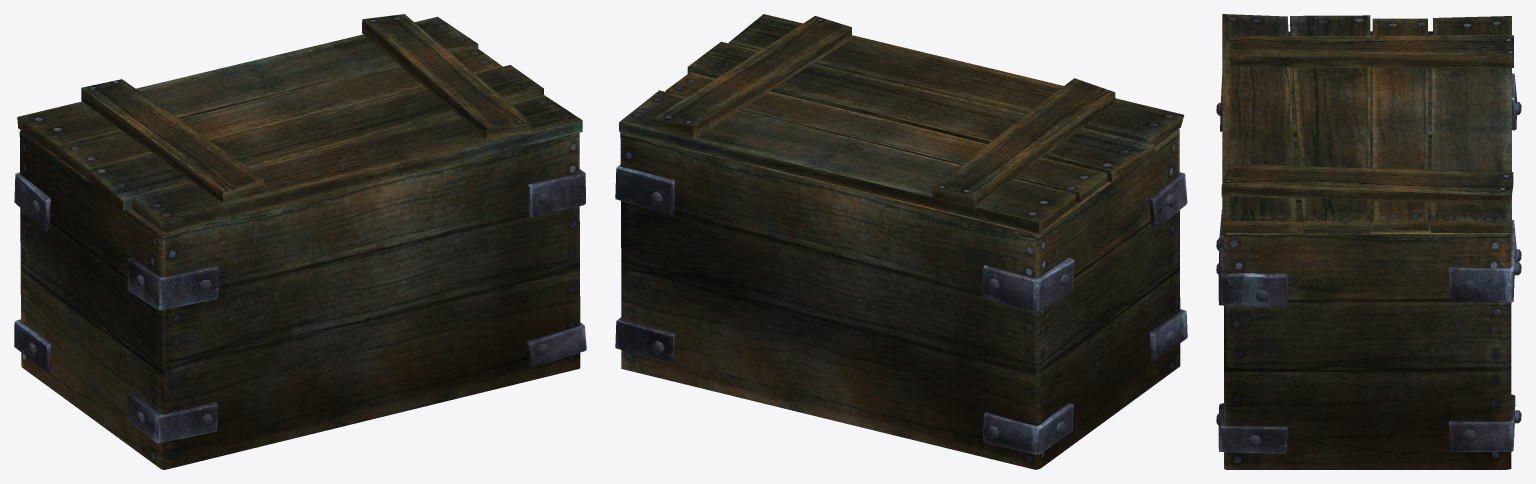
The model's file is Big_box.FBX.
3 views of the same model, side by side, from view 1: azimuth 30°, elevation 25°; view 2: azimuth 150°, elevation 25°; view 3: azimuth 270°, elevation 25° (orthographic).
Parts seen in each view (by area): view 1: big_box, big_box_cover; view 2: big_box, big_box_cover; view 3: big_box, big_box_cover.
Part boxes in pixels (x1,y1,x2,y2): big_box: [14, 130, 586, 469]; big_box_cover: [17, 14, 582, 233]; big_box: [615, 129, 1187, 469]; big_box_cover: [619, 14, 1184, 233]; big_box: [1216, 31, 1521, 469]; big_box_cover: [1221, 14, 1513, 233].
Bounding box in the file's own units: 78.05 × 45.19 × 47.29.
